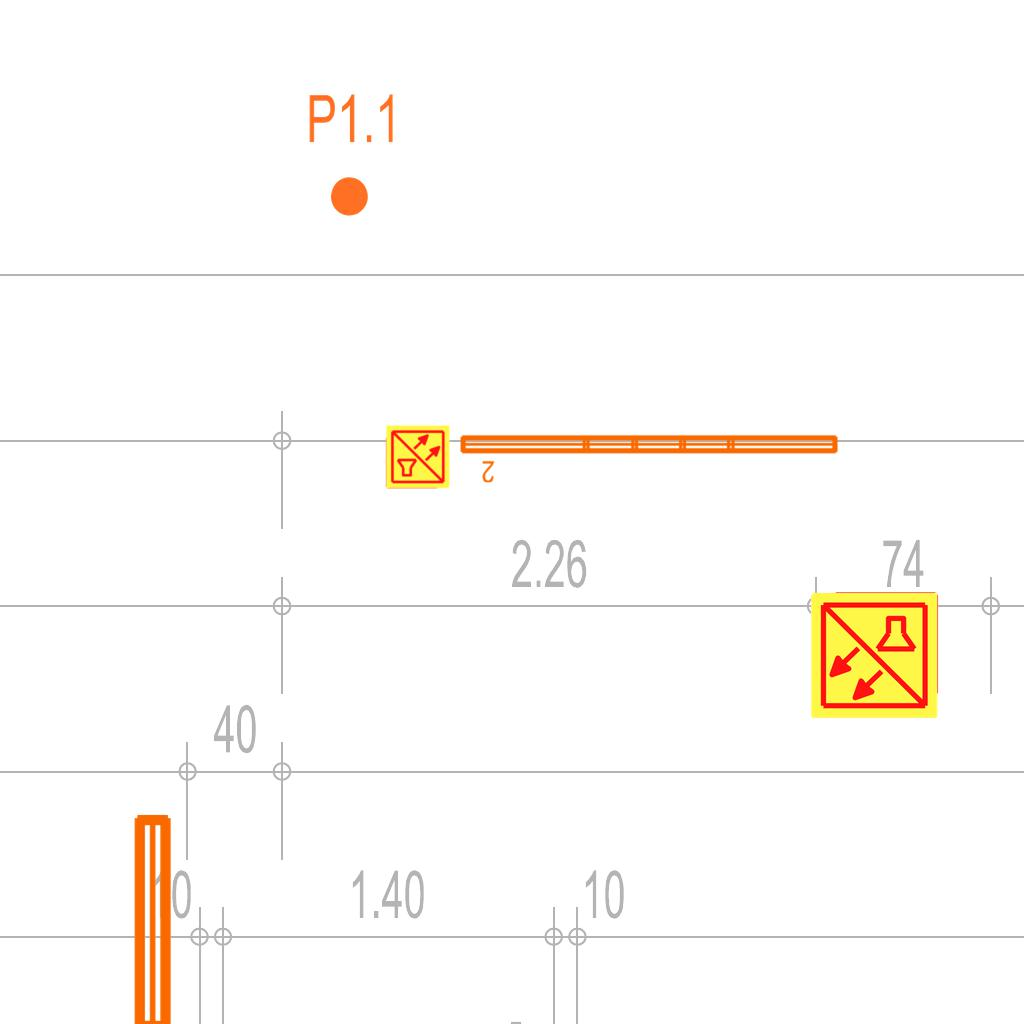Ambulanz_Pendelleuchte_LED: (122, 804, 234, 1024), (456, 429, 843, 485)
Downlight_LED_Einbauleuchten_Flur: (306, 91, 399, 219)
OKW_Multisensormelder_(Kombination_optischer_Rauch-Kahlenmonoxid_Waerme-Melder): (808, 589, 940, 721), (385, 424, 451, 490)
